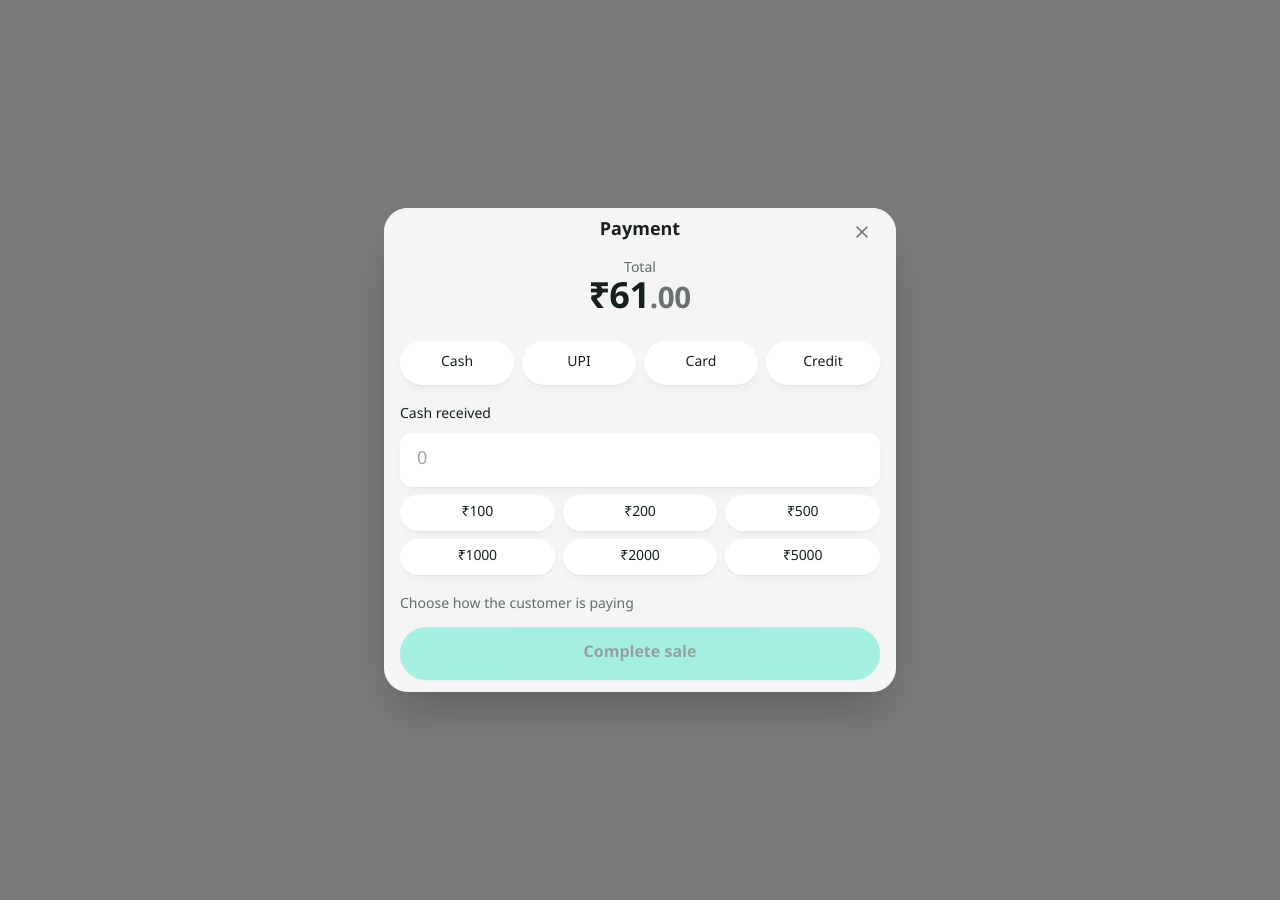
Test: PaymentSheet — credit › hides the cash-tendered field during a full credit sale
Expected: the text "Cash received" is shown, x1=400 y1=406 x2=491 y2=423
Click the button "Credit" at (823, 363), box x1=766 y1=341 x2=880 y2=385
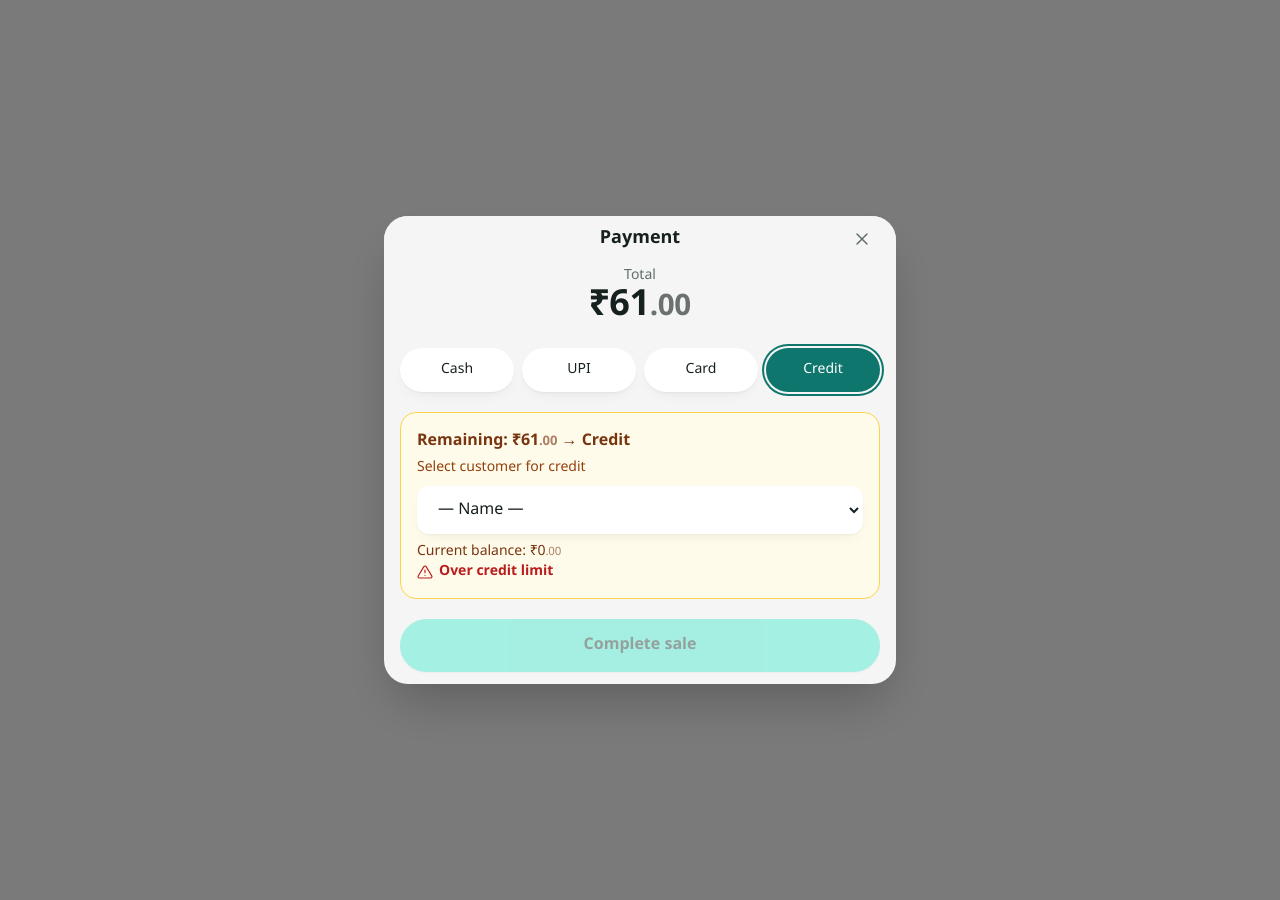
Result: the text "Cash received" is gone
